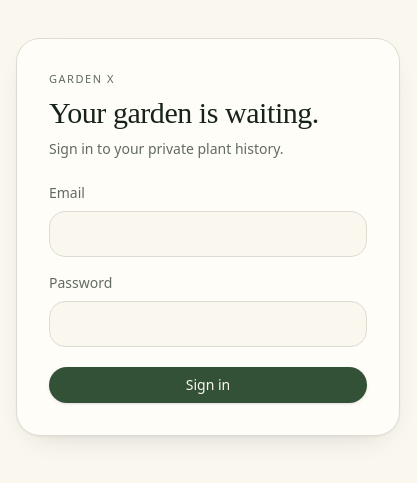
Garden sign-in error messages › distinguishes service failure from rejected credentials
Type "person@example.test" into the field labelled "Email" at (208, 234), box [49, 211, 367, 257]
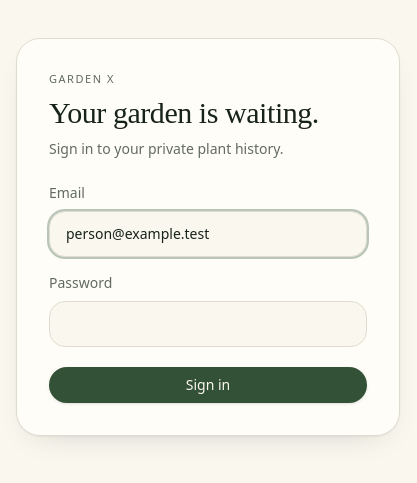
Type "not-a-real-password" into the password field labelled "Password" at (208, 324), box [49, 301, 367, 347]
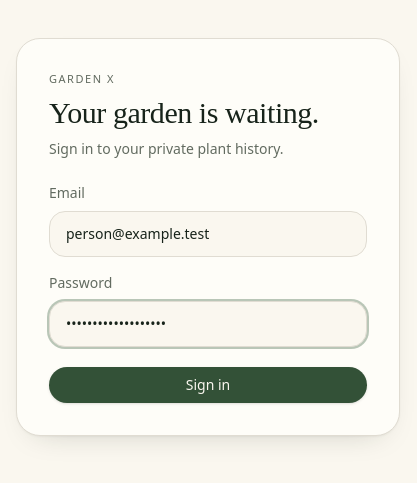
Click the button "Sign in" at (208, 385), box [49, 367, 367, 403]
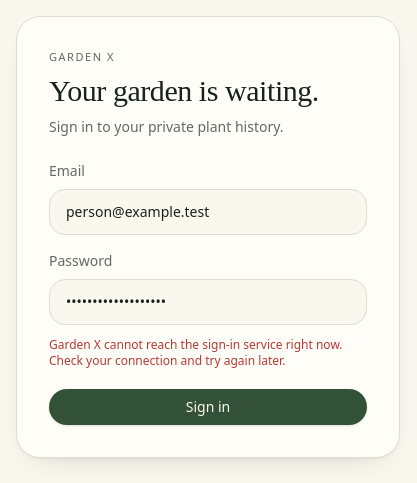
Check: the text "cannot reach the sign-in service" is shown, box [49, 336, 343, 369]
